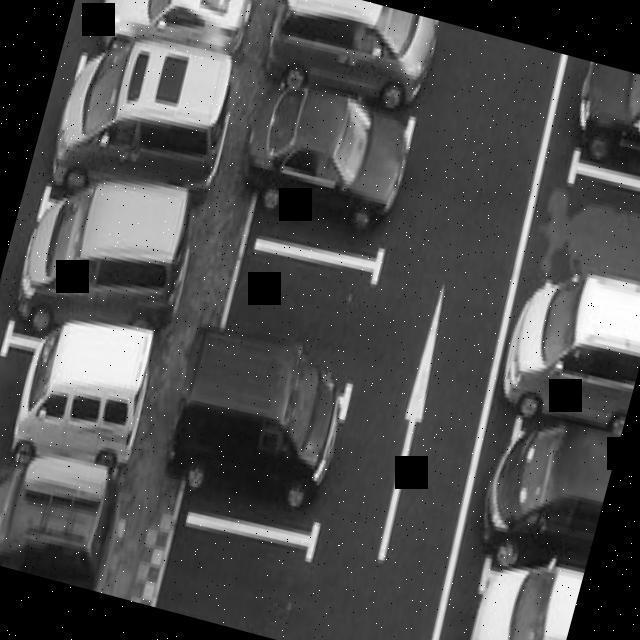car: (168, 370, 354, 546), (241, 88, 417, 264), (3, 188, 174, 350), (44, 56, 218, 215), (483, 270, 640, 443), (455, 418, 616, 581), (0, 338, 143, 490), (280, 0, 442, 104), (540, 55, 640, 188), (0, 453, 100, 585), (428, 554, 579, 640), (79, 0, 233, 69)
free: (209, 227, 389, 414), (145, 519, 317, 640), (514, 145, 640, 305)
